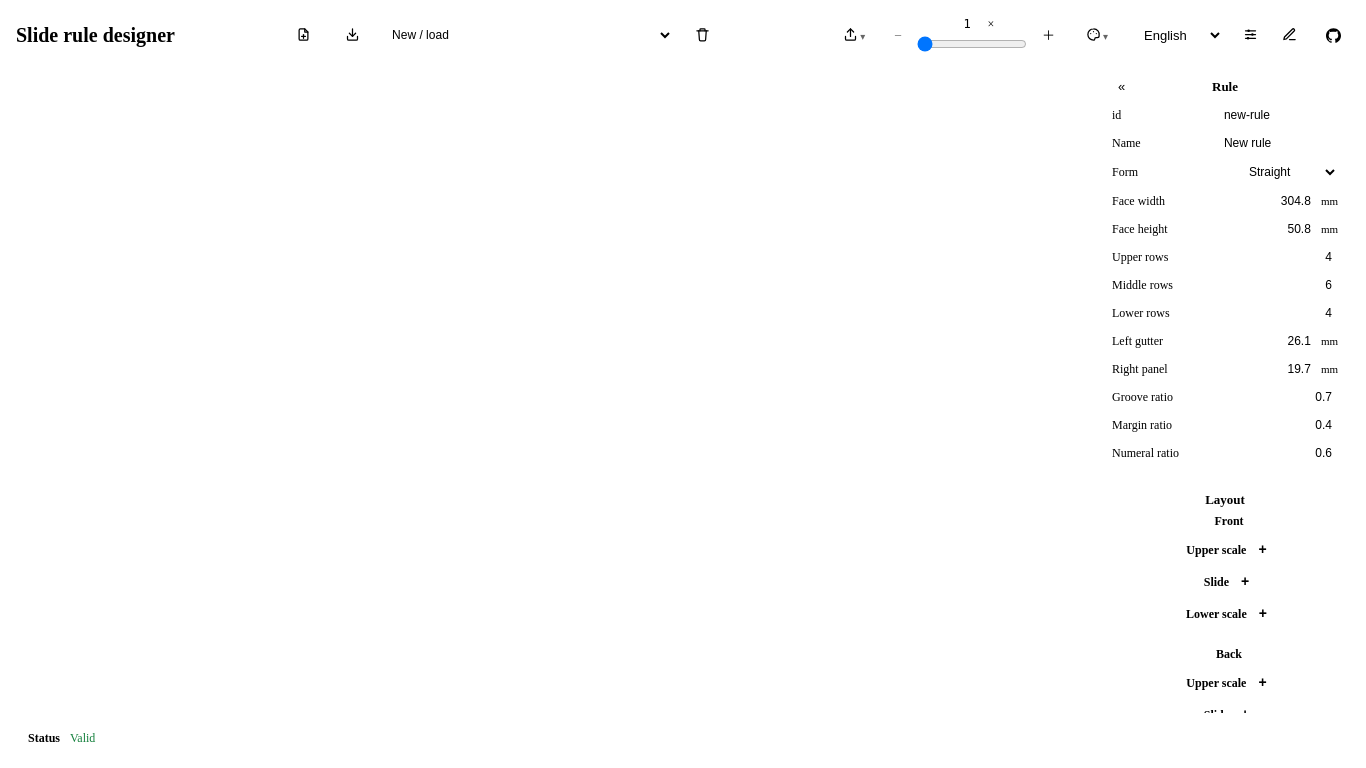
Test case: DesignerView › seeds the 1002 and shows the valid validation state
The width and height of the screenshot is (1366, 768).
Select "1002 Vector Log-Log Double-Sided Slide Rule" in the dropdown with test id "new-select" at (528, 35), box [382,23,673,47]
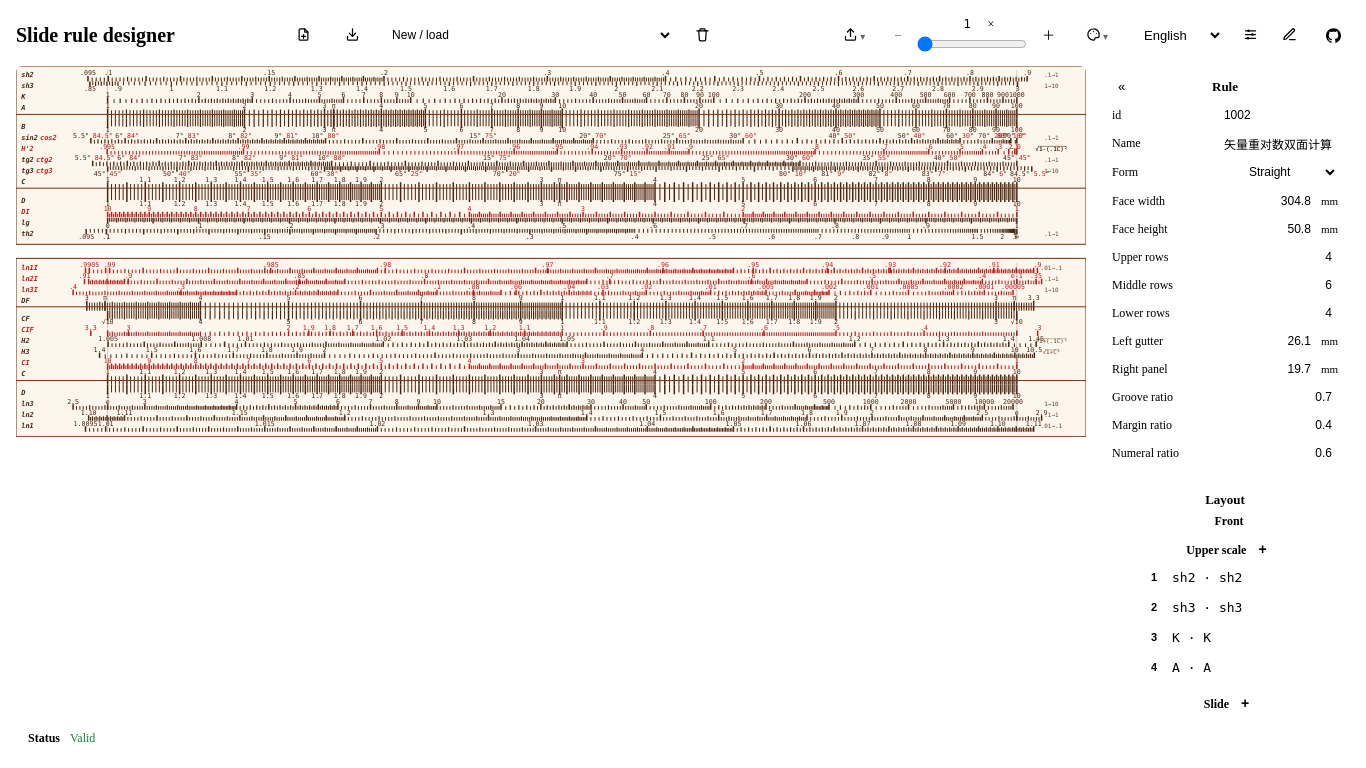
Check: the text "Valid" is shown, box [70,731,95,746]
Check: the field with test id "rule-id" holds "1002", box [1218,104,1338,126]
